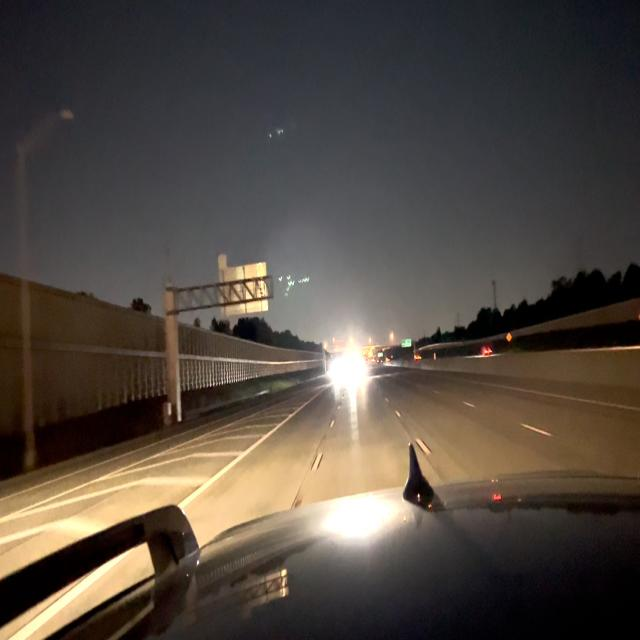back-of-sign: (217, 263, 270, 316), (217, 252, 228, 270)
